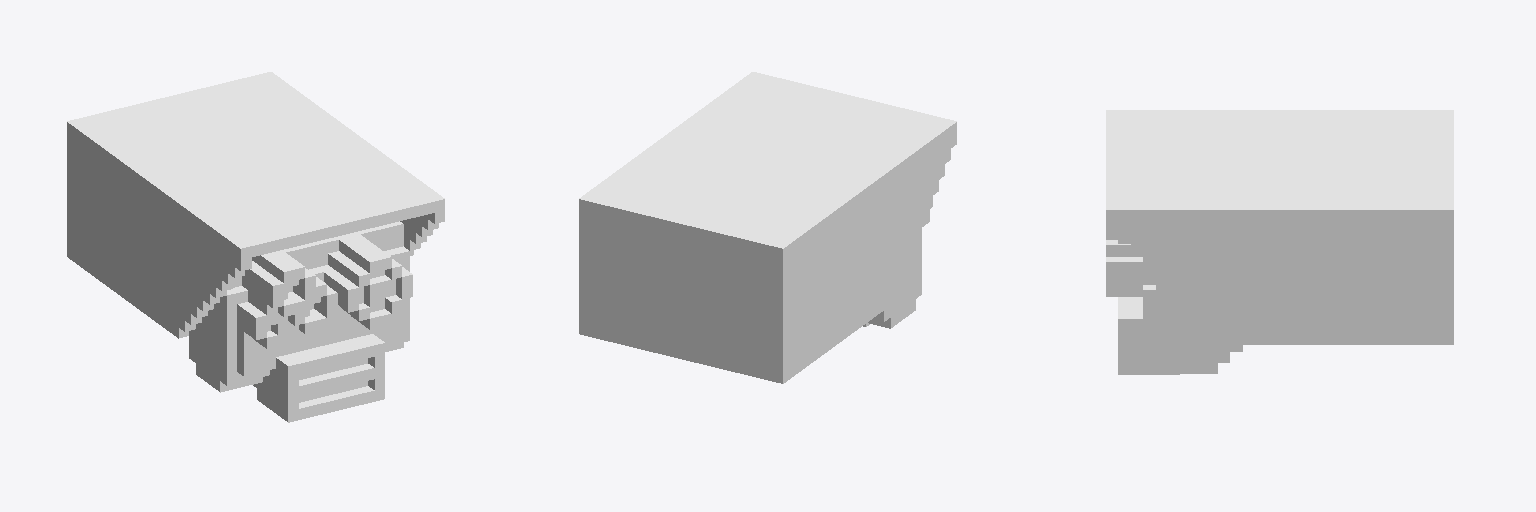
Rendered from CCTVHead.obj.
3 views of the same model, side by side, from view 1: azimuth 30°, elevation 25°; view 2: azimuth 150°, elevation 25°; view 3: azimuth 270°, elevation 25° (orthographic).
Parts seen in each view (by area): view 1: CCTVHead; view 2: CCTVHead; view 3: CCTVHead.
Part boxes in pixels (left/top/right/bottom): CCTVHead: left=67, top=72, right=444, bottom=422; CCTVHead: left=579, top=72, right=956, bottom=383; CCTVHead: left=1106, top=110, right=1453, bottom=374.
Size of the model in its own units: 19 by 17 by 28.